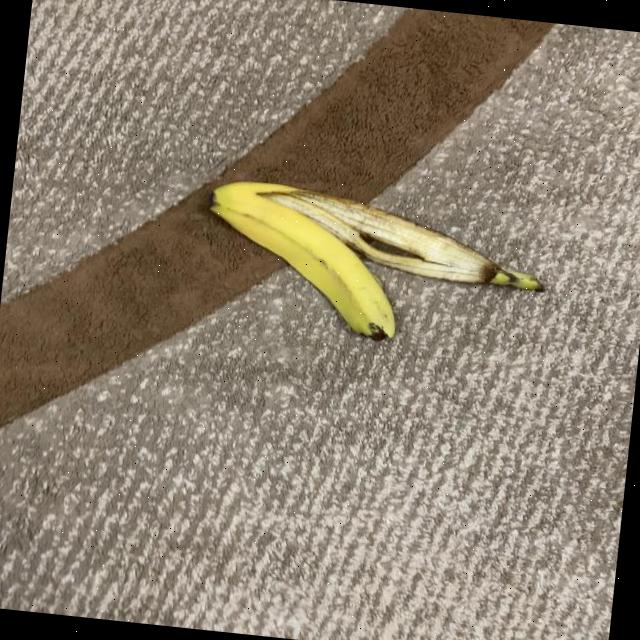banana-peel: (196, 174, 410, 343), (254, 180, 550, 293)
